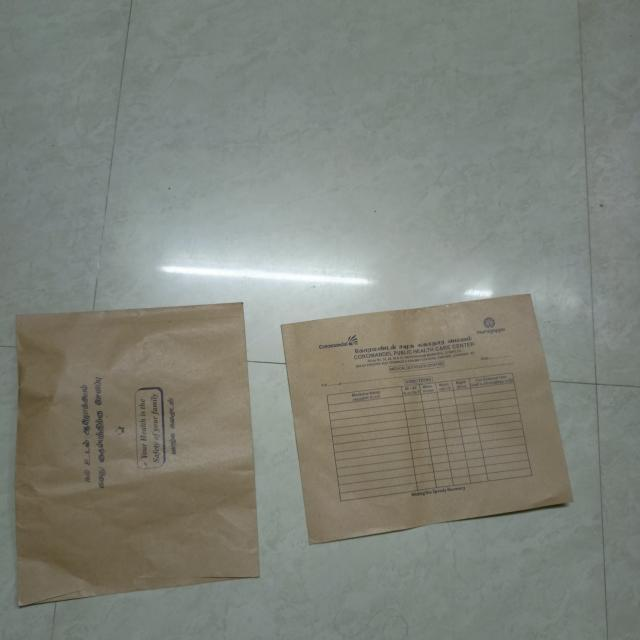box: (15, 296, 268, 611), (281, 296, 569, 549)
